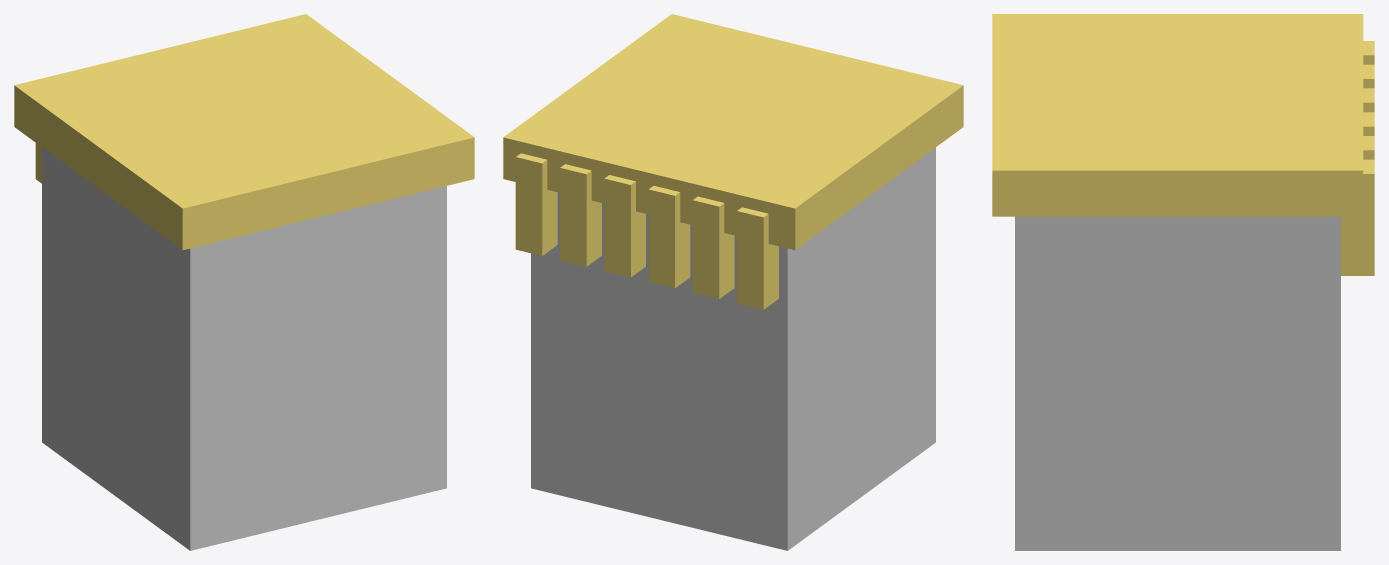
The model's file is marinha_branco_manga_sup.glb.
The picture shows the model from 3 angles, left to right: view 1: azimuth 30°, elevation 25°; view 2: azimuth 150°, elevation 25°; view 3: azimuth 270°, elevation 25°; orthographic projection. The views are drawn at different scales.
Visible parts, largest first — view 1: marinha_branco_manga_sup; view 2: marinha_branco_manga_sup; view 3: marinha_branco_manga_sup.
Part boxes in pixels (bbox=[...]): marinha_branco_manga_sup: bbox=[14, 14, 474, 550]; marinha_branco_manga_sup: bbox=[503, 14, 963, 550]; marinha_branco_manga_sup: bbox=[992, 14, 1374, 550].
Size of the model in its own units: 0.33 by 0.3825 by 0.34.
